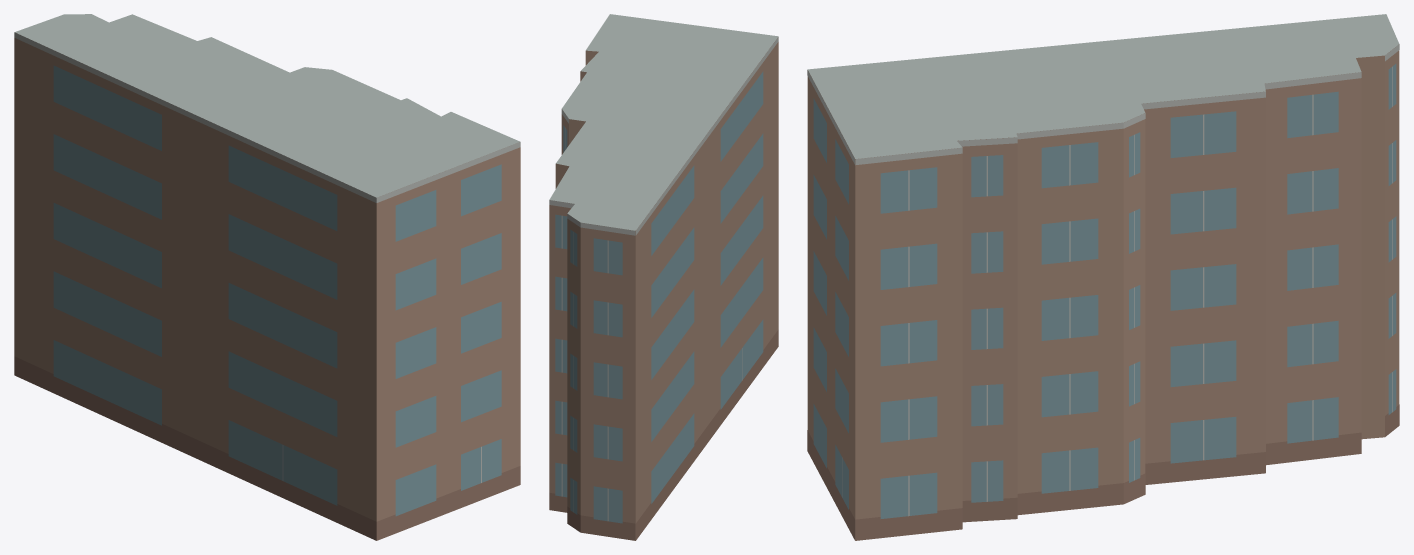
File: survey-upis-32563910.glb
3 views of the same model, side by side, from view 1: azimuth 30°, elevation 25°; view 2: azimuth 150°, elevation 25°; view 3: azimuth 270°, elevation 25° (orthographic). The views are drawn at different scales.
Parts seen in each view (by area): view 1: survey-upis-32563910.tmp; view 2: survey-upis-32563910.tmp; view 3: survey-upis-32563910.tmp.
Part boxes in pixels (x1=…): survey-upis-32563910.tmp: x1=14, y1=14, x2=520, y2=540; survey-upis-32563910.tmp: x1=549, y1=14, x2=778, y2=540; survey-upis-32563910.tmp: x1=807, y1=14, x2=1399, y2=540.
Size of the model in its own units: 12.48 by 15.3 by 21.51.
